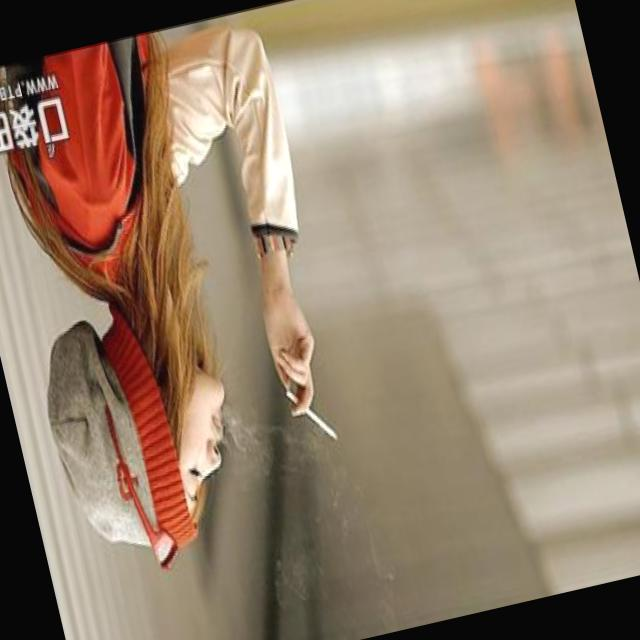smoke: (304, 398, 339, 447)
